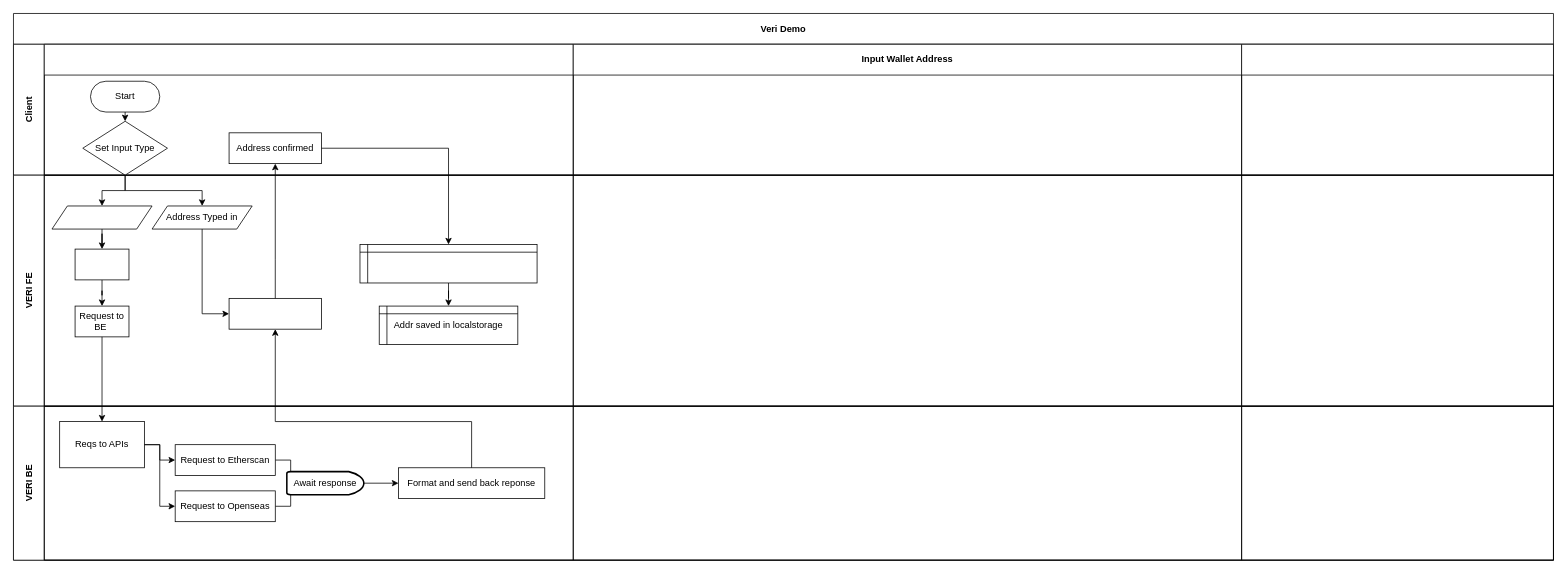
Some shapes in this 1567 by 574 pixel diagram are drawn without their labels. The box of each missing label's shape, as (x1, y1, x2, y2) in pixels:
Address shown: (228, 298, 321, 329)
Cancel any prev reqs: (74, 248, 129, 280)
Contract Address saved in state: (359, 244, 537, 283)
Get Token verification: (1241, 44, 1553, 175)
Inputs contract address: (44, 44, 573, 175)
Name Searched: (51, 205, 152, 229)
